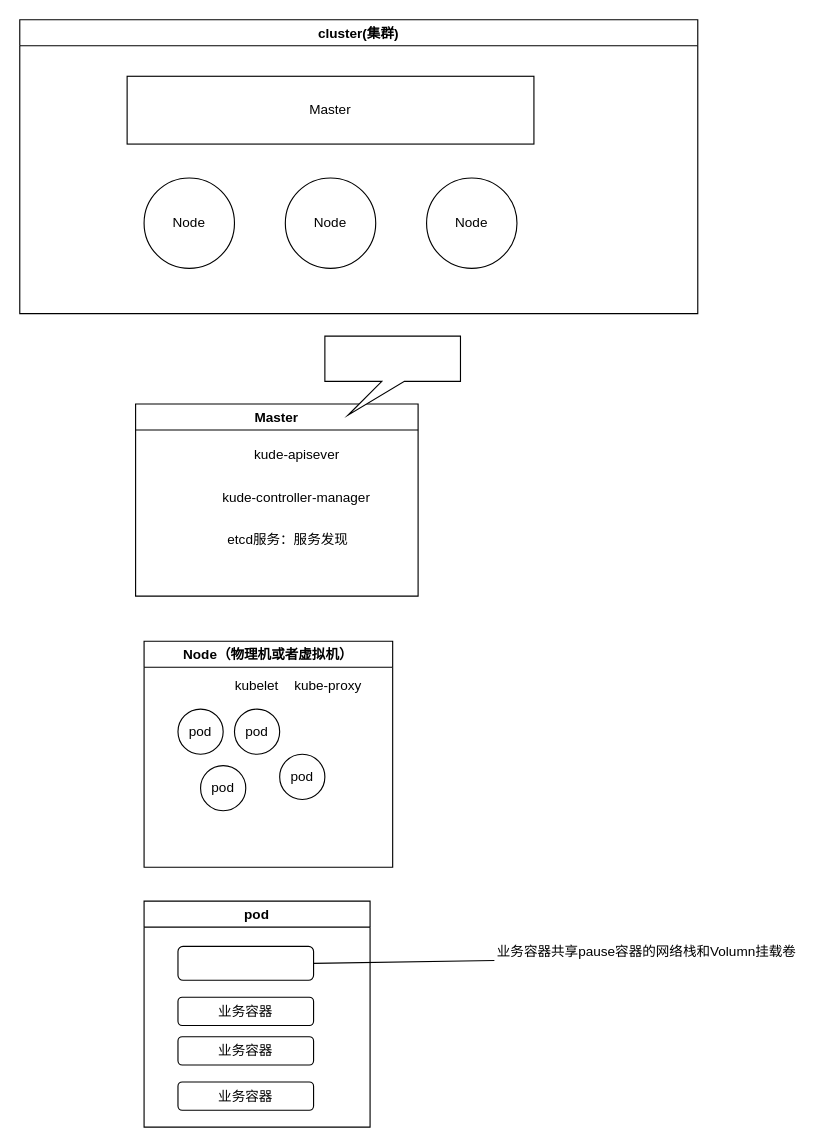
This 819x1147 diagram has some shape labels left out. Here are the shapes that lost their labels. From the top down, the centre of each, then its label:
At pixel 392 375: "集群控制节点 接受控制命令".
At pixel 245 962: "pause容器".
